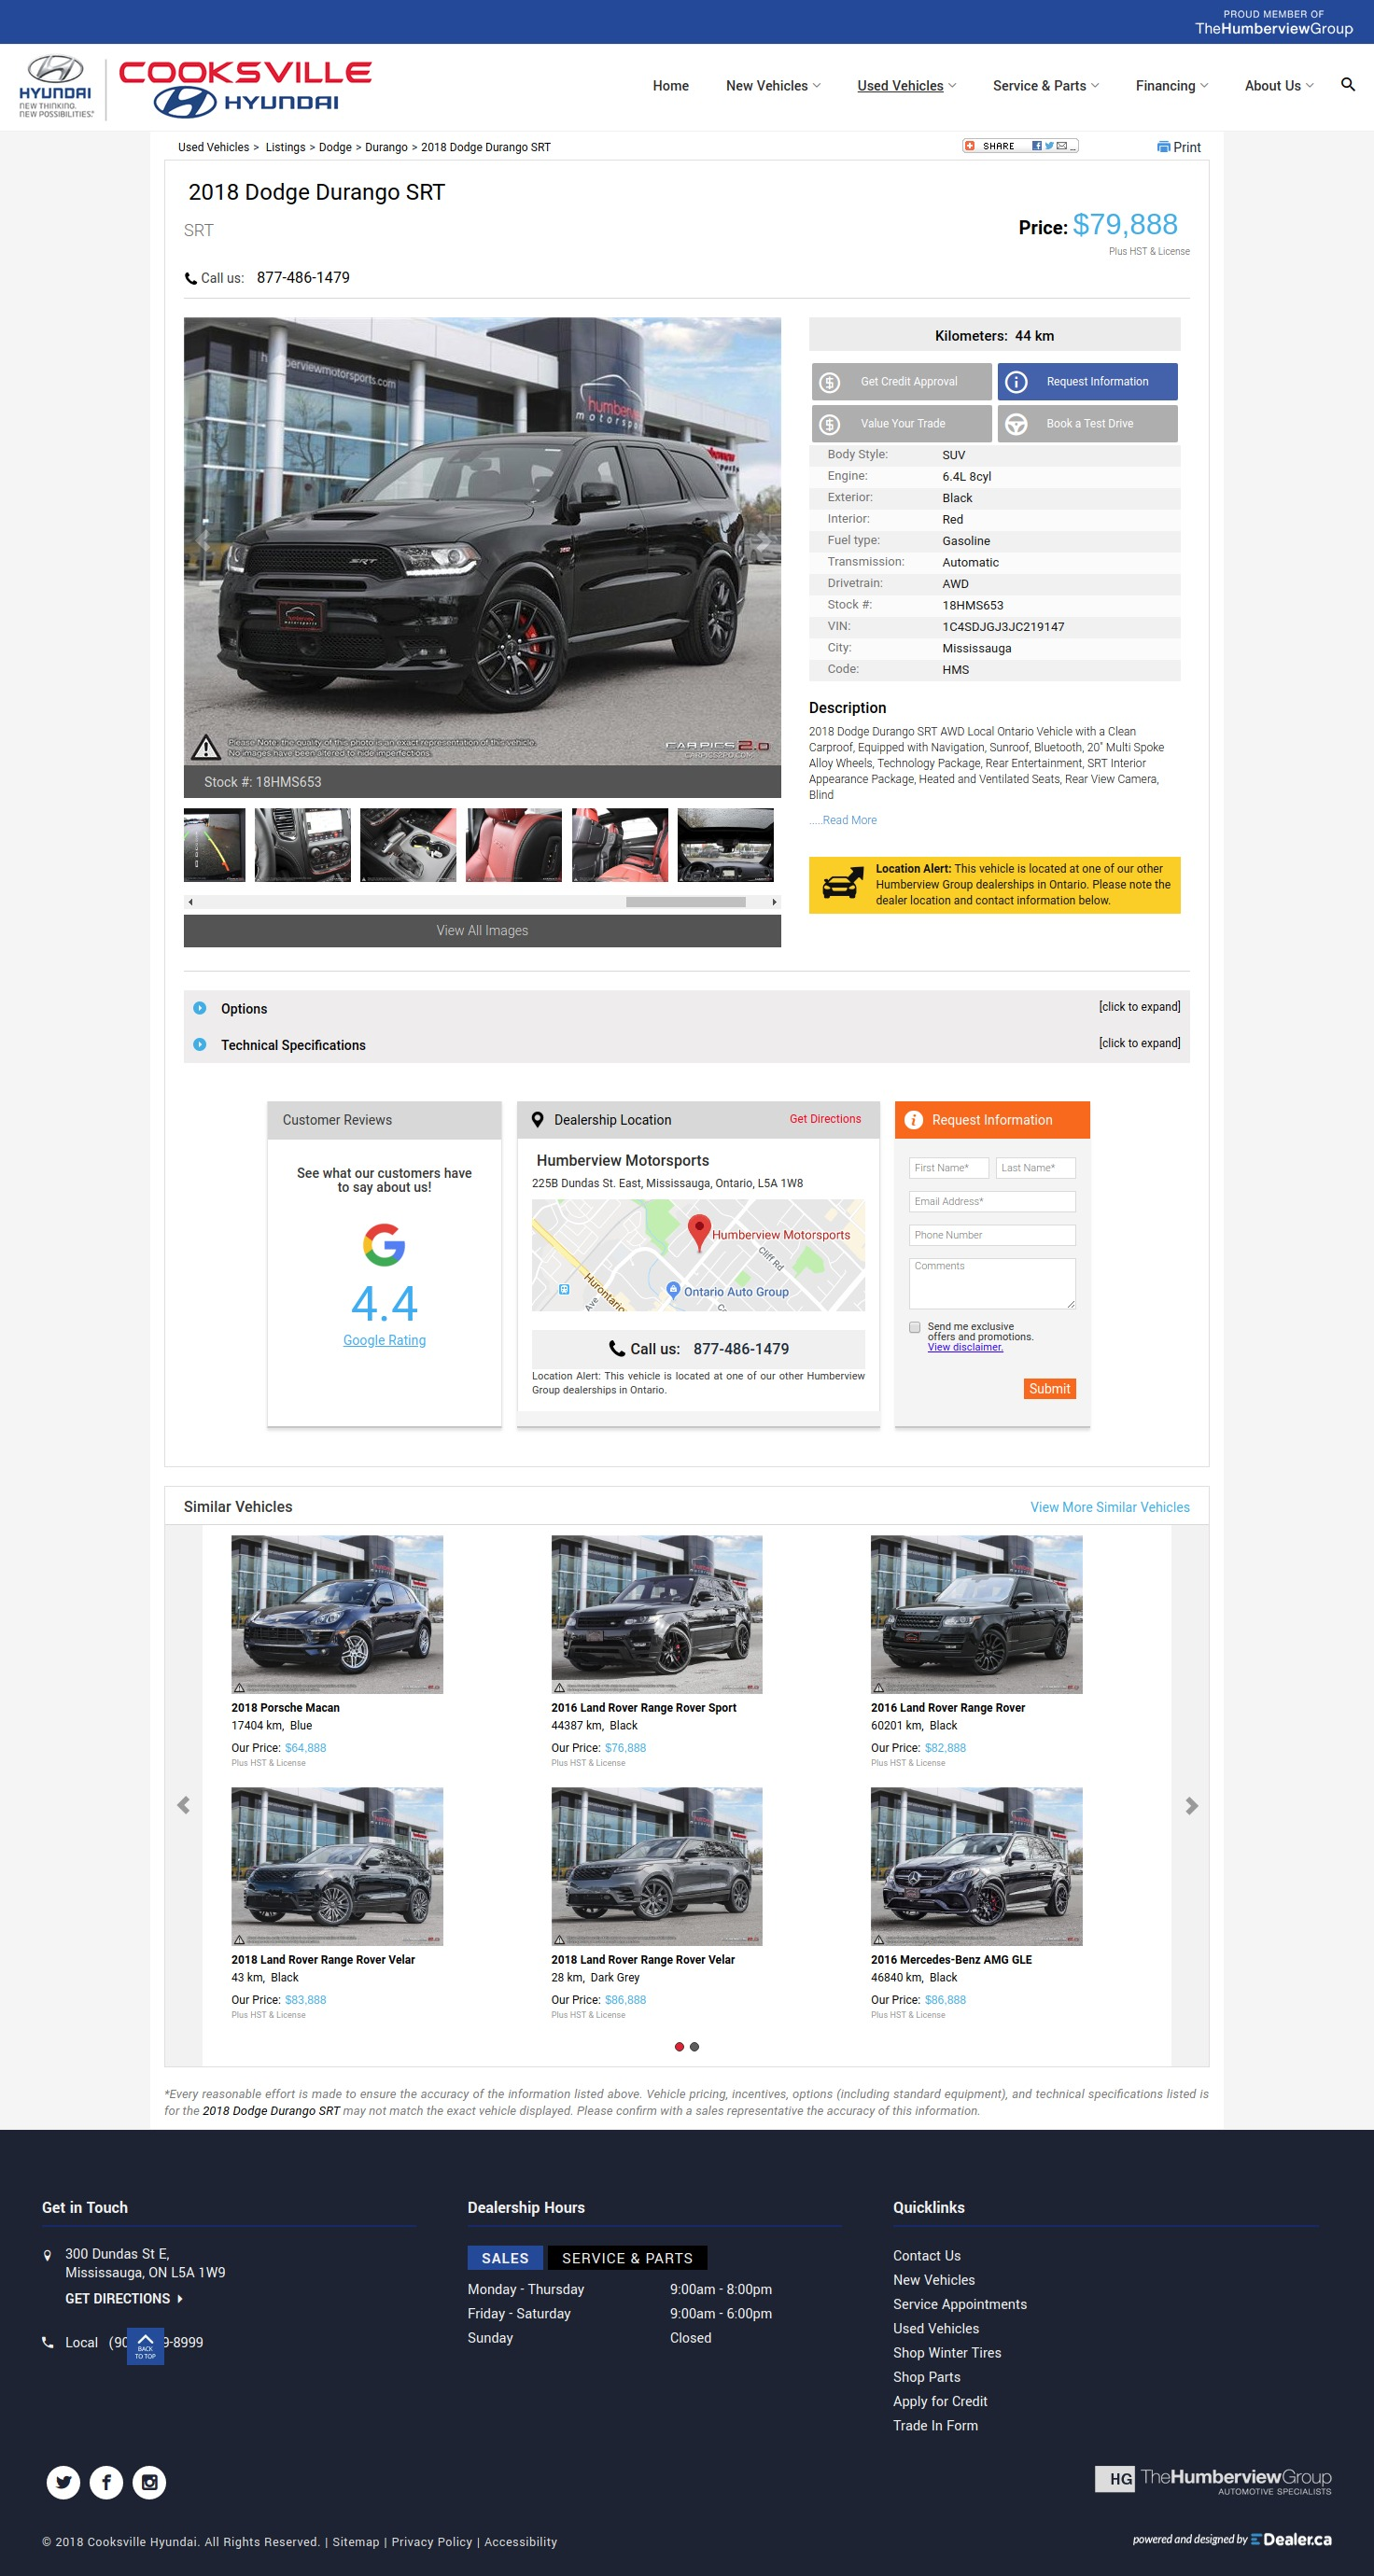car: (772, 900, 777, 906)
